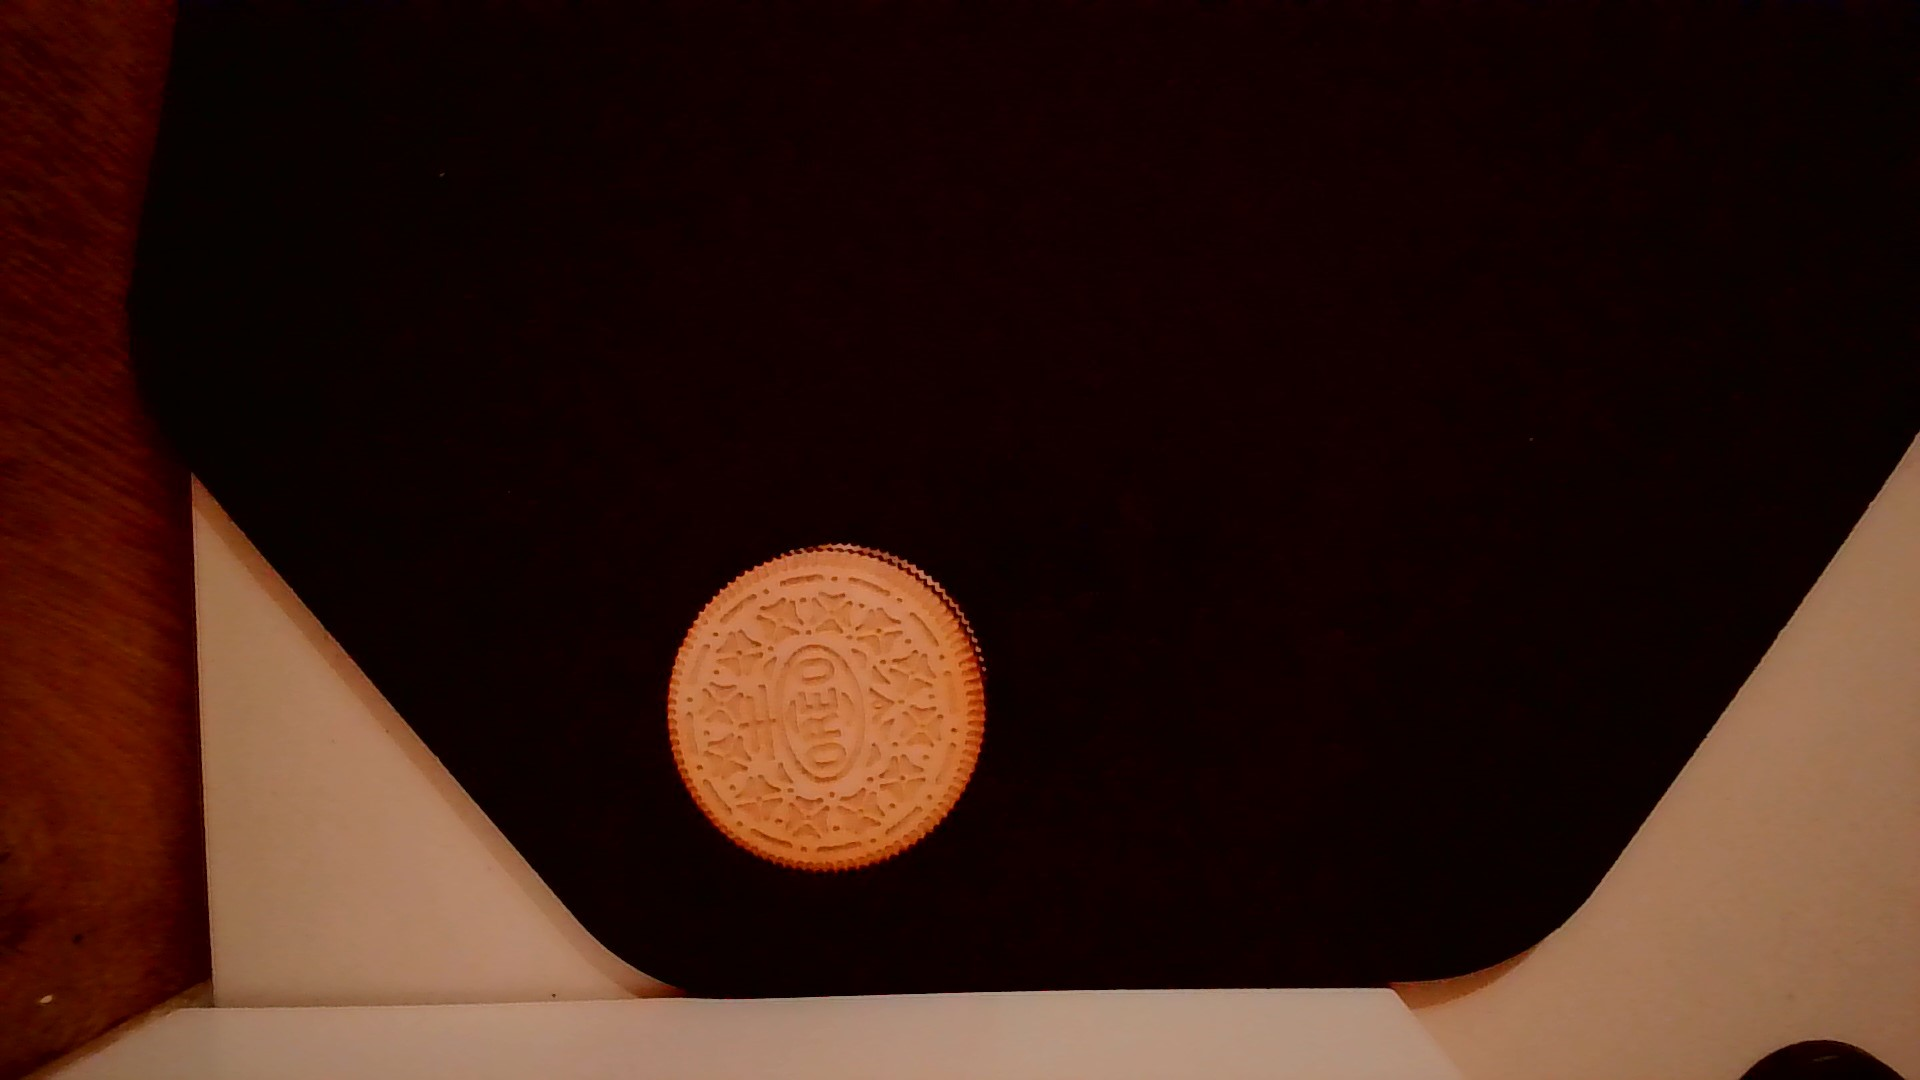Oréo: (657, 530, 996, 884)
